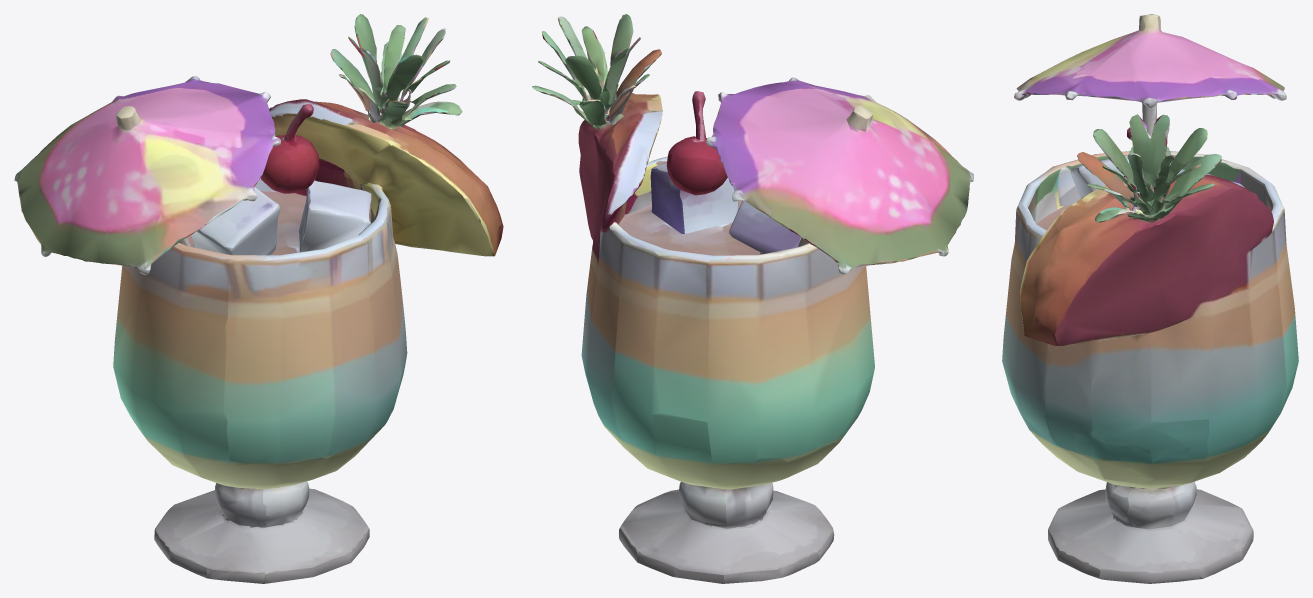
Rendered from cocktail.glb.
3 views of the same model, side by side, from view 1: azimuth 30°, elevation 25°; view 2: azimuth 150°, elevation 25°; view 3: azimuth 270°, elevation 25° (orthographic).
Parts seen in each view (by area): view 1: tmpa93j85v6.ply; view 2: tmpa93j85v6.ply; view 3: tmpa93j85v6.ply.
Boxes of the visible parts, x1,y1,x2,y2 form: tmpa93j85v6.ply: (14,14,503,583); tmpa93j85v6.ply: (532,14,973,583); tmpa93j85v6.ply: (1002,14,1298,583).
Bounding box in the file's own units: 0.9009 × 0.9854 × 0.5627.
Materials: 1 (1 with a texture image).
